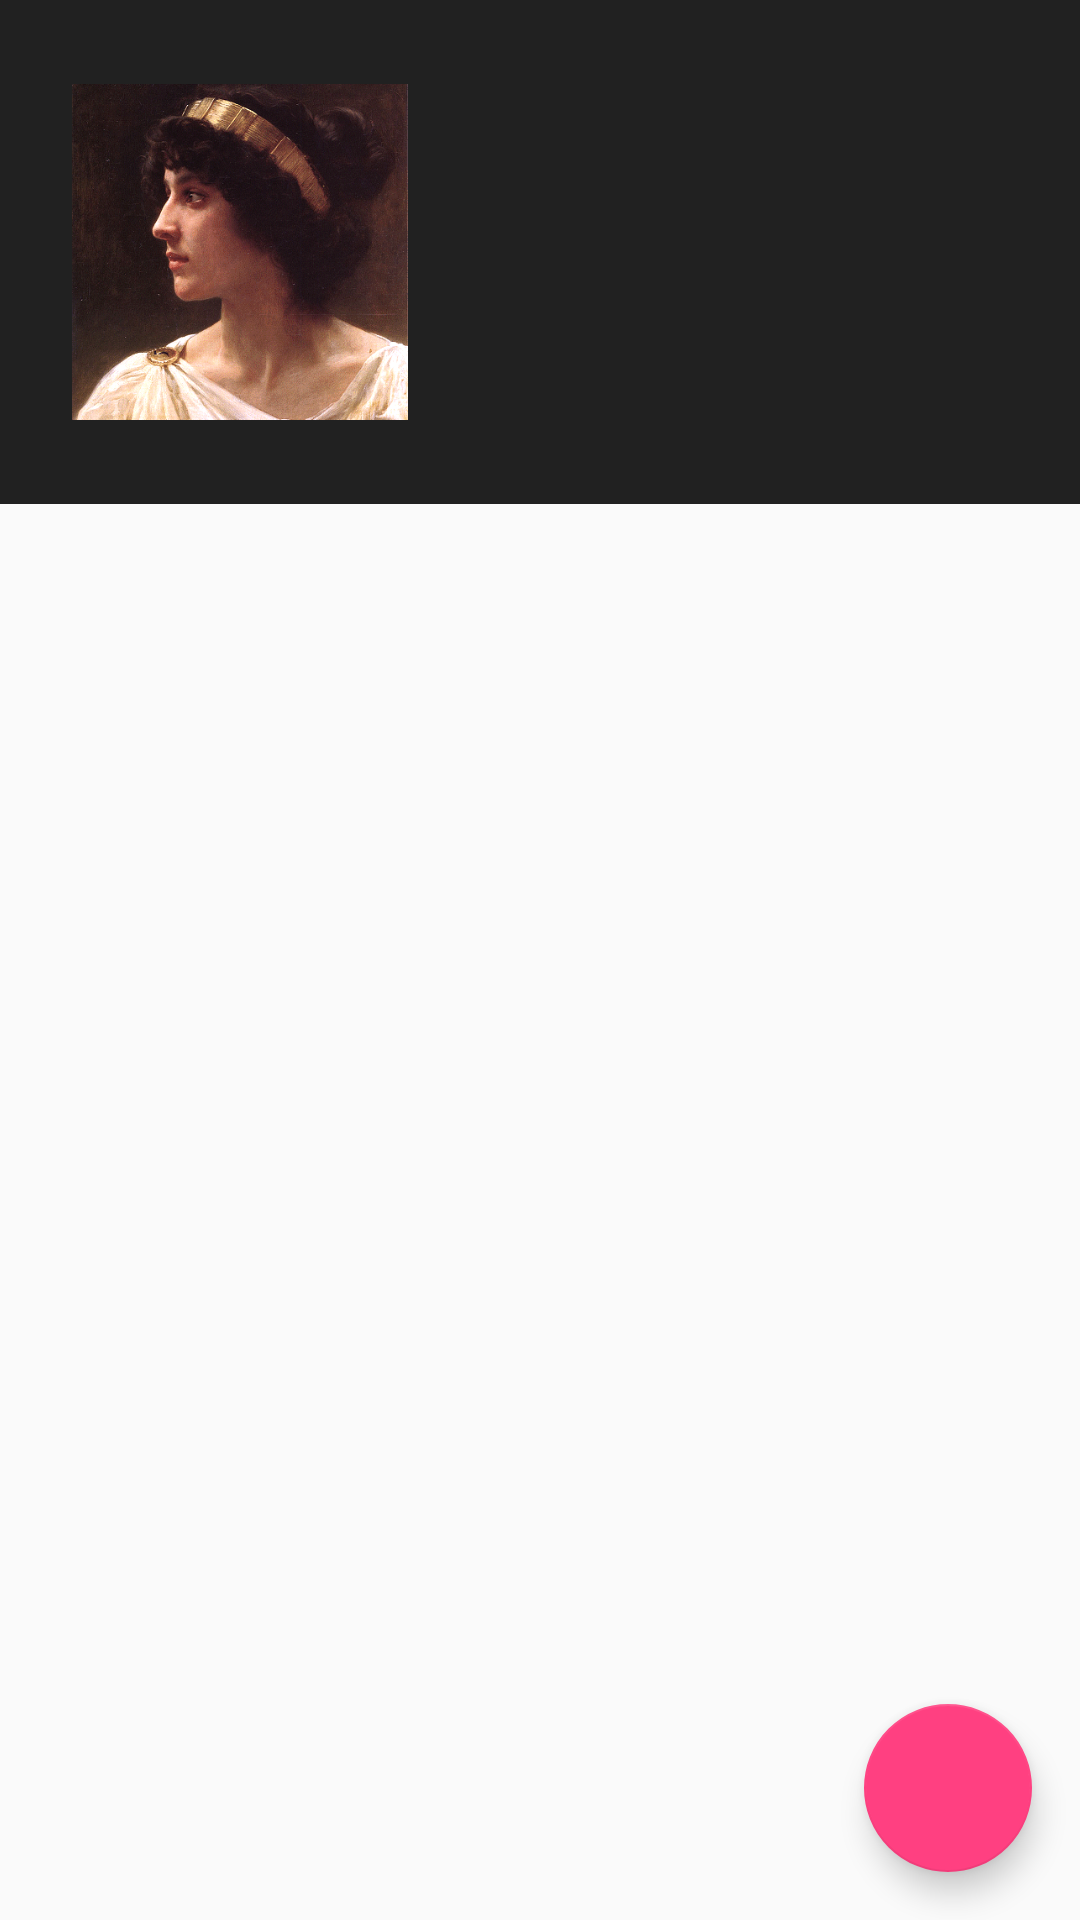

Locate icon controls on the screen. Image size 1080w x 1920h, boxes as Rect(x1, y1, x2, y2).
This is the poster of the podcast on the quick media player: Rect(72, 84, 408, 420)
